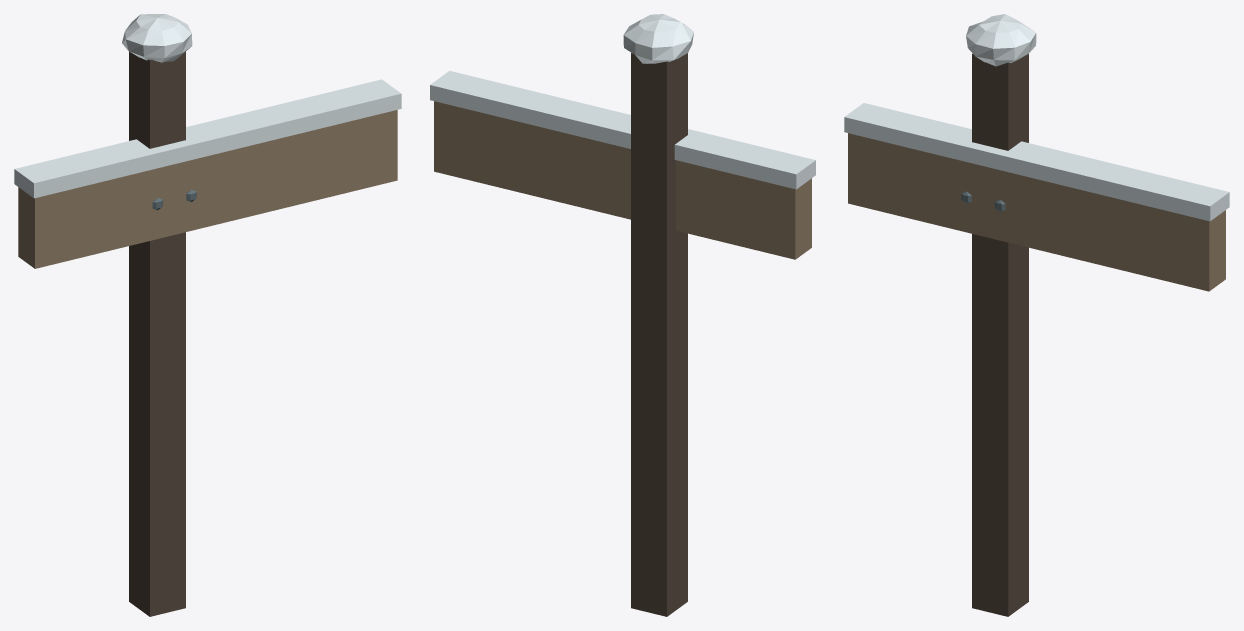
The model's file is PROP_04_WinterSignpost.glb.
The picture shows the model from 3 angles, left to right: view 1: azimuth 30°, elevation 25°; view 2: azimuth 150°, elevation 25°; view 3: azimuth 330°, elevation 25°; orthographic projection.
Visible parts, largest first — view 1: PROP_04_WinterSignpost; view 2: PROP_04_WinterSignpost; view 3: PROP_04_WinterSignpost.
Boxes of the visible parts, x1,y1,x2,y2 form: PROP_04_WinterSignpost: (14,14,401,616); PROP_04_WinterSignpost: (430,14,815,616); PROP_04_WinterSignpost: (844,14,1229,616).
Size of the model in its own units: 1.52 by 2.32 by 0.2507.
